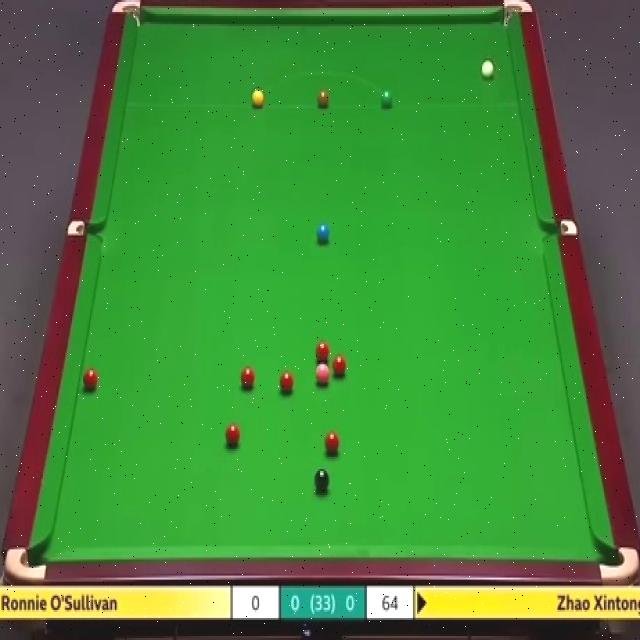black-ball: (314, 468, 331, 493)
blue-ball: (318, 225, 330, 247)
brown-ball: (318, 91, 330, 109)
green-ball: (381, 89, 393, 109)
pink-ball: (314, 361, 330, 387)
red-ball: (225, 422, 242, 451), (324, 430, 342, 456), (315, 338, 331, 364), (81, 367, 98, 391), (331, 353, 347, 378), (240, 366, 256, 391), (279, 370, 293, 394)
white-ball: (480, 56, 495, 80)
yellow-ball: (250, 88, 264, 109)
